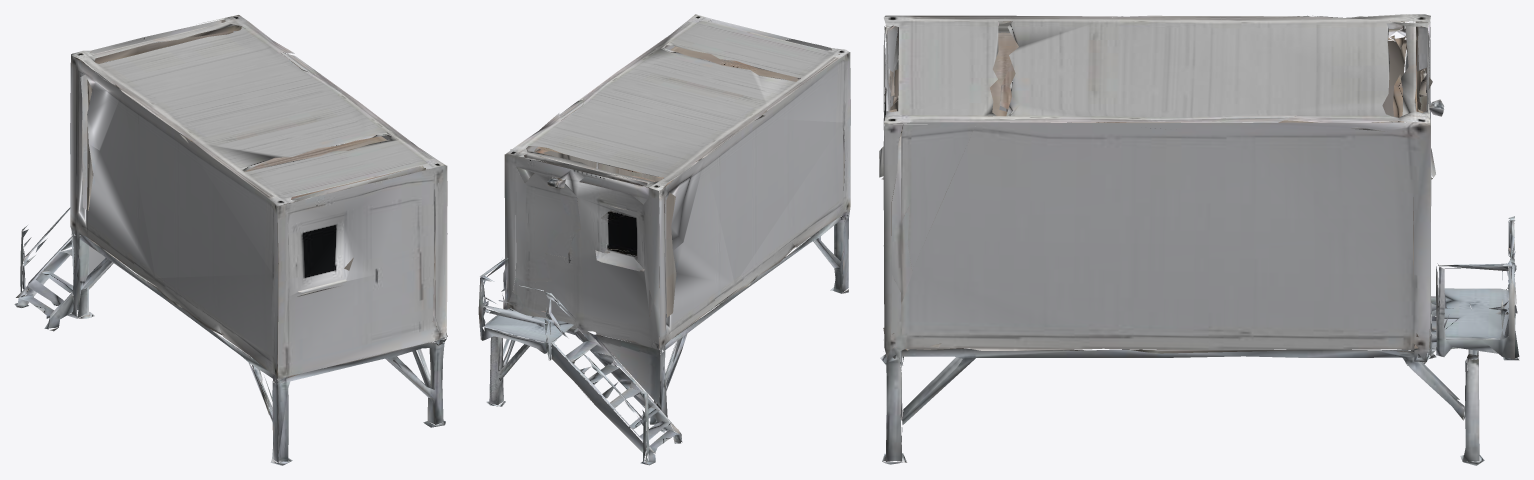
The model's file is steinbruch_buero.glb.
3 renders of one model, left to right at view 1: azimuth 30°, elevation 25°; view 2: azimuth 150°, elevation 25°; view 3: azimuth 270°, elevation 25°, orthographic. The views are drawn at different scales.
Visible parts, largest first — view 1: Prop; view 2: Prop; view 3: Prop.
Part boxes in pixels (<box>): Prop: <box>14,15,447,465</box>; Prop: <box>478,14,850,465</box>; Prop: <box>879,14,1519,465</box>.
Size of the model in its own units: 0.768 by 1 by 1.63.
1 material, 1 textured.
